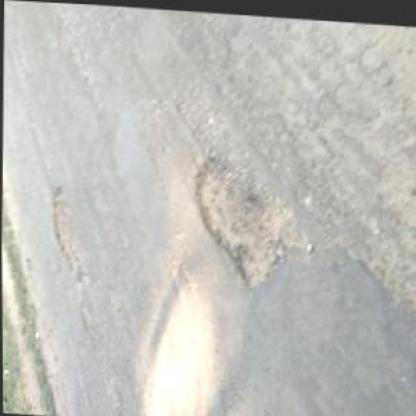pothole: (187, 150, 301, 294), (47, 182, 82, 273)
